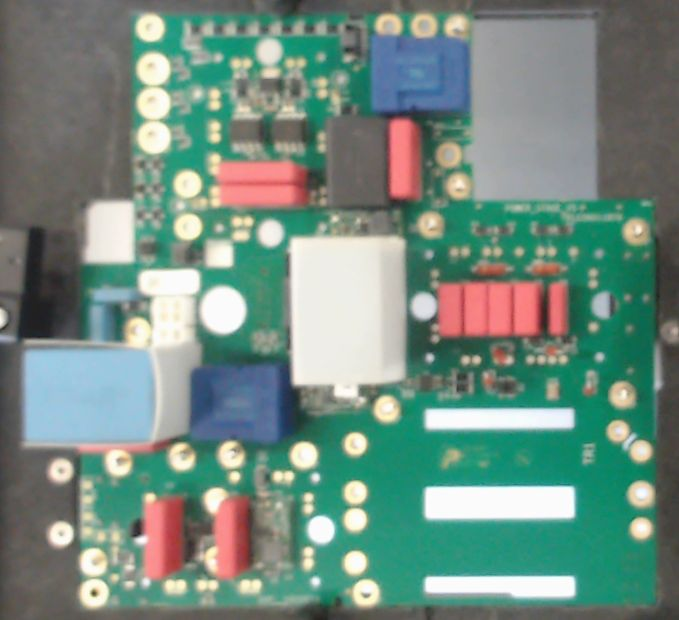comp1: (369, 33, 473, 119), (190, 365, 293, 444)
comp2: (141, 496, 191, 579), (387, 117, 426, 205), (215, 494, 252, 577), (219, 157, 309, 185), (220, 186, 310, 210), (437, 281, 464, 340), (514, 281, 540, 341), (489, 281, 514, 342), (463, 281, 489, 339), (548, 281, 571, 337)
comp3: (326, 114, 389, 209)
comp4: (19, 337, 201, 450), (289, 234, 408, 389)
